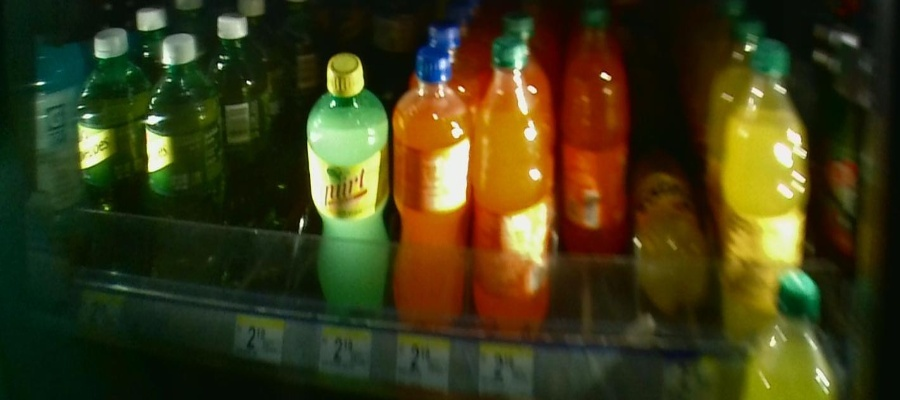bottle: (716, 42, 807, 344), (392, 40, 473, 334), (475, 34, 553, 337), (303, 51, 388, 326), (146, 36, 221, 288), (74, 25, 144, 277), (560, 13, 631, 261), (641, 176, 707, 331)
